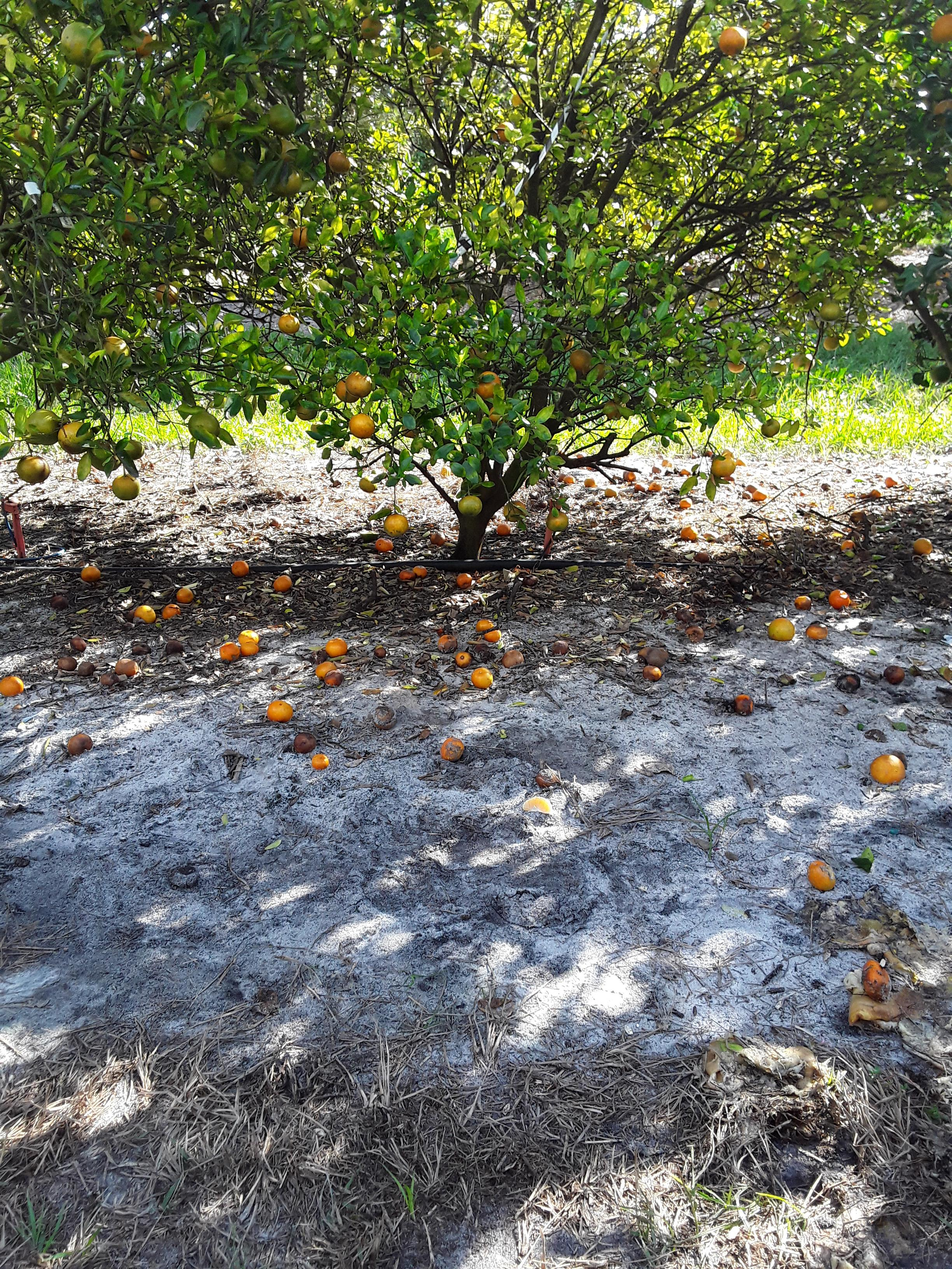fruit_on_ground: (59, 19, 105, 66), (198, 90, 238, 128), (22, 407, 60, 442), (56, 418, 94, 453), (123, 24, 160, 59), (86, 438, 119, 473), (188, 408, 221, 441), (266, 103, 299, 135), (717, 23, 749, 56), (15, 454, 50, 484), (207, 147, 238, 178), (110, 471, 142, 501), (276, 133, 306, 163), (273, 166, 303, 196), (101, 335, 132, 364), (928, 12, 952, 47), (356, 12, 385, 40), (346, 369, 374, 397), (348, 411, 376, 439), (152, 281, 181, 307), (12, 121, 42, 146), (325, 149, 352, 176), (928, 94, 952, 123), (424, 39, 451, 64), (711, 453, 736, 479), (119, 436, 146, 460), (457, 493, 484, 517), (289, 223, 313, 250), (503, 498, 528, 521), (569, 346, 592, 371), (276, 312, 301, 335), (294, 397, 318, 420), (465, 342, 490, 364), (475, 379, 501, 400), (397, 414, 420, 437), (928, 360, 951, 383), (273, 363, 297, 385), (126, 142, 150, 164), (868, 192, 892, 214), (546, 510, 570, 532), (492, 121, 514, 144), (589, 358, 612, 380), (819, 299, 842, 321), (114, 223, 138, 244), (725, 123, 747, 145), (790, 352, 813, 373), (486, 405, 510, 425), (475, 369, 501, 386), (332, 377, 351, 400), (769, 358, 789, 379), (785, 287, 805, 307), (558, 332, 578, 352), (601, 399, 621, 419), (145, 193, 165, 212), (508, 88, 527, 108), (357, 475, 377, 494), (760, 419, 781, 437), (702, 292, 721, 311), (933, 271, 951, 290), (821, 333, 839, 352), (726, 357, 746, 374), (909, 369, 927, 387), (836, 329, 852, 348), (305, 423, 323, 438), (753, 255, 769, 271), (436, 464, 454, 478), (682, 262, 696, 276)
fruit_on_tree: (868, 752, 905, 787), (805, 858, 839, 894), (859, 957, 891, 993), (438, 735, 466, 764), (767, 617, 796, 642), (383, 514, 411, 538), (266, 699, 294, 723), (66, 732, 92, 757), (0, 673, 24, 697), (522, 796, 551, 815), (732, 692, 755, 715), (471, 667, 494, 690), (238, 632, 260, 656), (292, 732, 317, 753), (827, 588, 852, 609), (883, 663, 906, 685), (324, 638, 348, 659), (646, 644, 669, 665), (132, 603, 156, 623), (501, 648, 525, 668), (219, 641, 242, 661), (271, 573, 293, 593), (309, 751, 331, 771), (912, 536, 934, 556), (114, 657, 137, 676), (322, 668, 345, 687), (805, 622, 828, 641), (437, 632, 458, 652), (684, 623, 705, 643), (80, 564, 102, 583), (161, 602, 183, 620), (641, 664, 663, 682), (314, 660, 335, 678), (56, 654, 77, 672), (453, 649, 472, 668), (175, 585, 194, 604), (357, 475, 377, 493), (374, 535, 394, 553), (842, 672, 861, 690), (77, 658, 96, 676), (793, 594, 812, 612), (164, 638, 184, 655), (550, 638, 570, 655), (534, 770, 552, 788), (455, 571, 473, 589), (49, 593, 68, 610), (230, 559, 249, 576), (429, 530, 447, 547), (839, 537, 857, 554), (680, 524, 698, 541), (69, 636, 88, 652), (474, 617, 493, 633), (483, 627, 502, 643), (849, 508, 867, 524), (495, 521, 512, 537), (373, 643, 390, 658), (98, 672, 115, 687), (131, 641, 149, 655), (635, 645, 650, 661), (522, 573, 539, 587), (733, 456, 748, 471), (753, 487, 768, 502), (437, 464, 453, 478), (756, 531, 772, 545), (694, 549, 710, 563), (866, 486, 883, 499), (264, 517, 280, 530), (398, 568, 414, 581), (744, 482, 758, 496), (678, 496, 692, 510), (701, 529, 716, 542), (413, 564, 428, 577), (583, 475, 598, 488), (740, 486, 753, 500), (648, 478, 662, 491), (884, 475, 898, 488), (649, 461, 663, 473), (604, 486, 618, 498), (330, 477, 343, 489), (661, 456, 674, 468), (623, 470, 636, 482), (677, 465, 691, 476), (702, 449, 716, 459), (564, 474, 575, 486), (654, 570, 666, 580), (634, 481, 646, 491), (556, 472, 568, 482), (821, 481, 832, 491)
